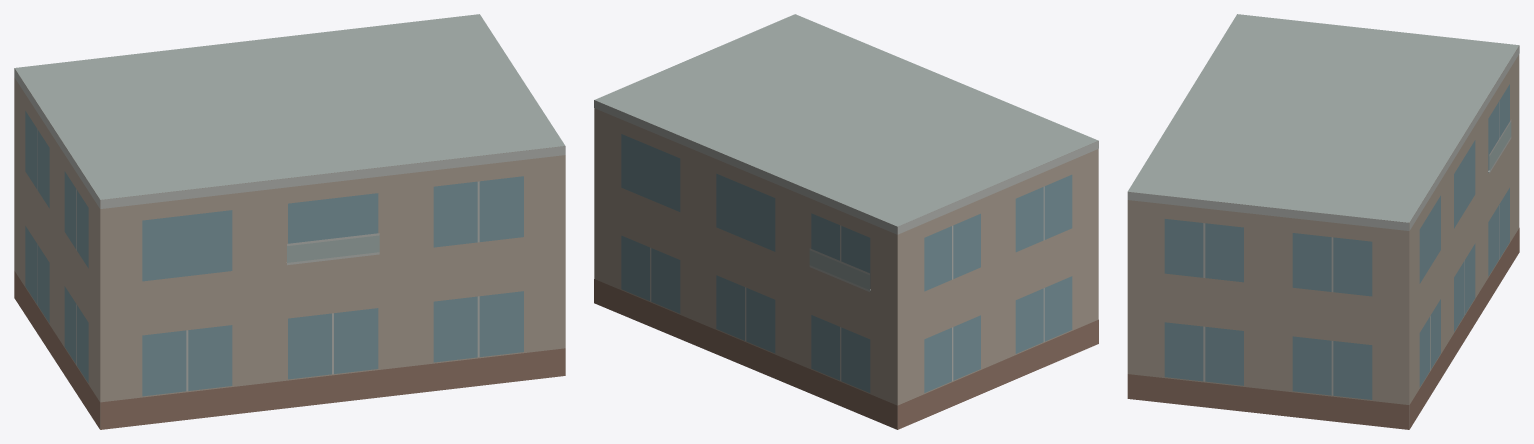
File: residential-8587fd32-4e14-4d76-926b-cb1afc920242.glb
The picture shows the model from 3 angles, left to right: view 1: azimuth 30°, elevation 25°; view 2: azimuth 150°, elevation 25°; view 3: azimuth 270°, elevation 25°; orthographic projection. The views are drawn at different scales.
Parts seen in each view (by area): view 1: residential-8587fd32-4e14-4d76-926b-cb1afc920242.tmp; view 2: residential-8587fd32-4e14-4d76-926b-cb1afc920242.tmp; view 3: residential-8587fd32-4e14-4d76-926b-cb1afc920242.tmp.
Boxes of the visible parts, <box> form: residential-8587fd32-4e14-4d76-926b-cb1afc920242.tmp: <box>14,14,565,429</box>; residential-8587fd32-4e14-4d76-926b-cb1afc920242.tmp: <box>594,14,1098,429</box>; residential-8587fd32-4e14-4d76-926b-cb1afc920242.tmp: <box>1127,14,1519,429</box>.
Bounding box in the file's own units: 13.2 × 6.1 × 10.48.
